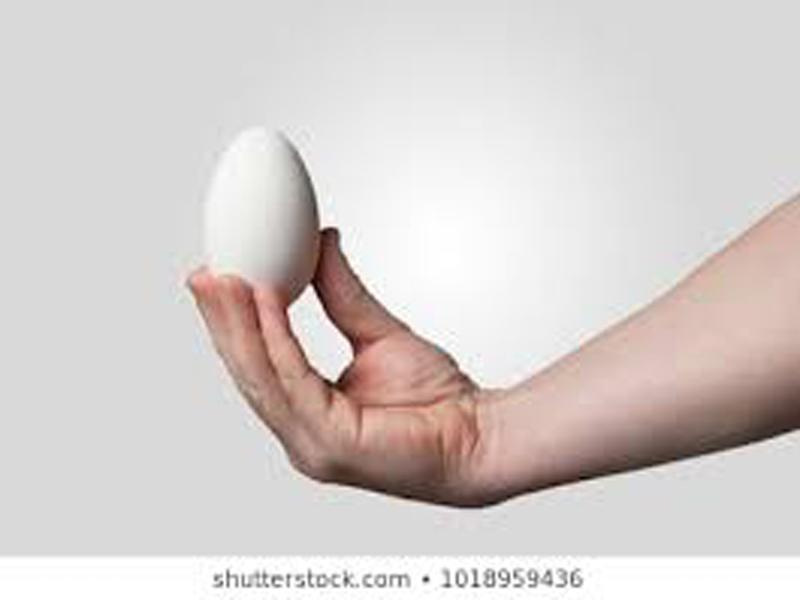Eggs: (199, 123, 320, 309)
